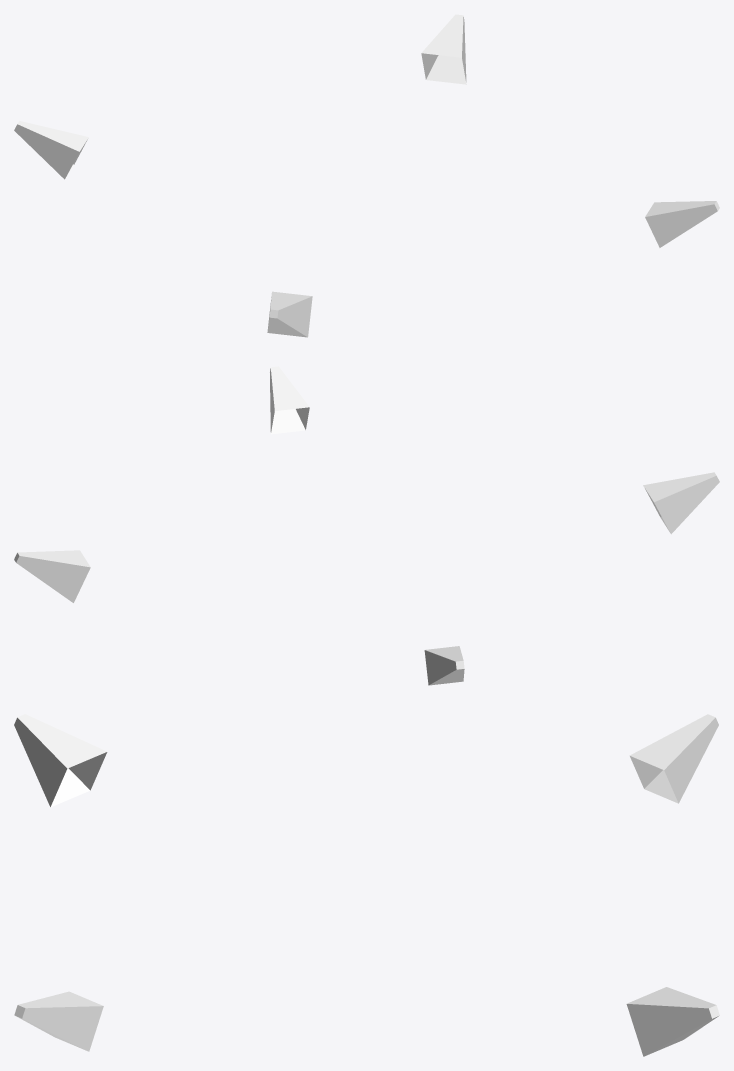
File: Arena_light.fbx
3 renders of one model, top to bottom at view 1: azimuth 30°, elevation 25°; view 2: azimuth 150°, elevation 25°; view 3: azimuth 270°, elevation 25°, orthographic. The views are drawn at different scales.
Visible parts, largest first — view 1: Arena_light; view 2: Arena_light; view 3: Arena_light.
Part boxes in pixels (x1,y1,x2,y2): Arena_light: (14,14,719,337); Arena_light: (14,366,719,685); Arena_light: (14,714,719,1056).
Size of the model in its own units: 36.84 by 3.65 by 37.05.
